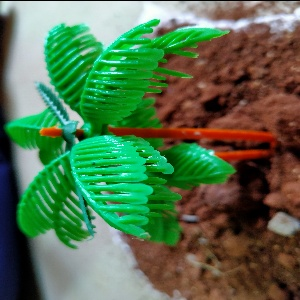plant: (3, 14, 219, 243)
